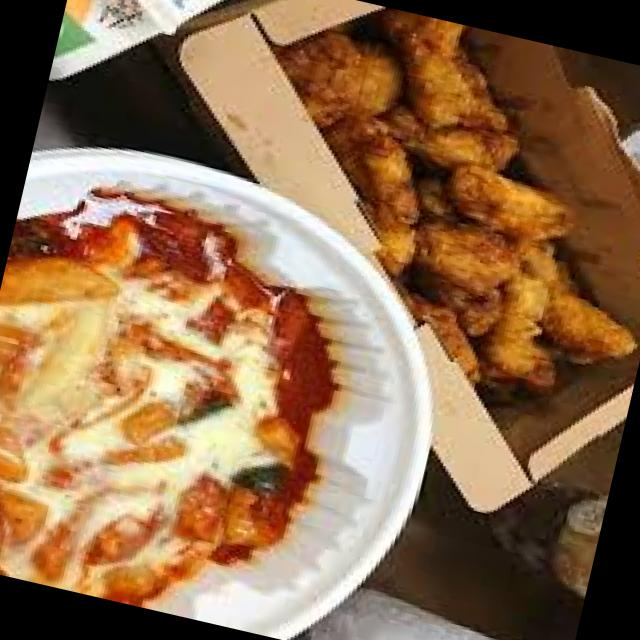paper: (160, 0, 640, 519), (0, 132, 439, 640), (45, 0, 220, 87)
plastic-bowl: (611, 115, 640, 188)
